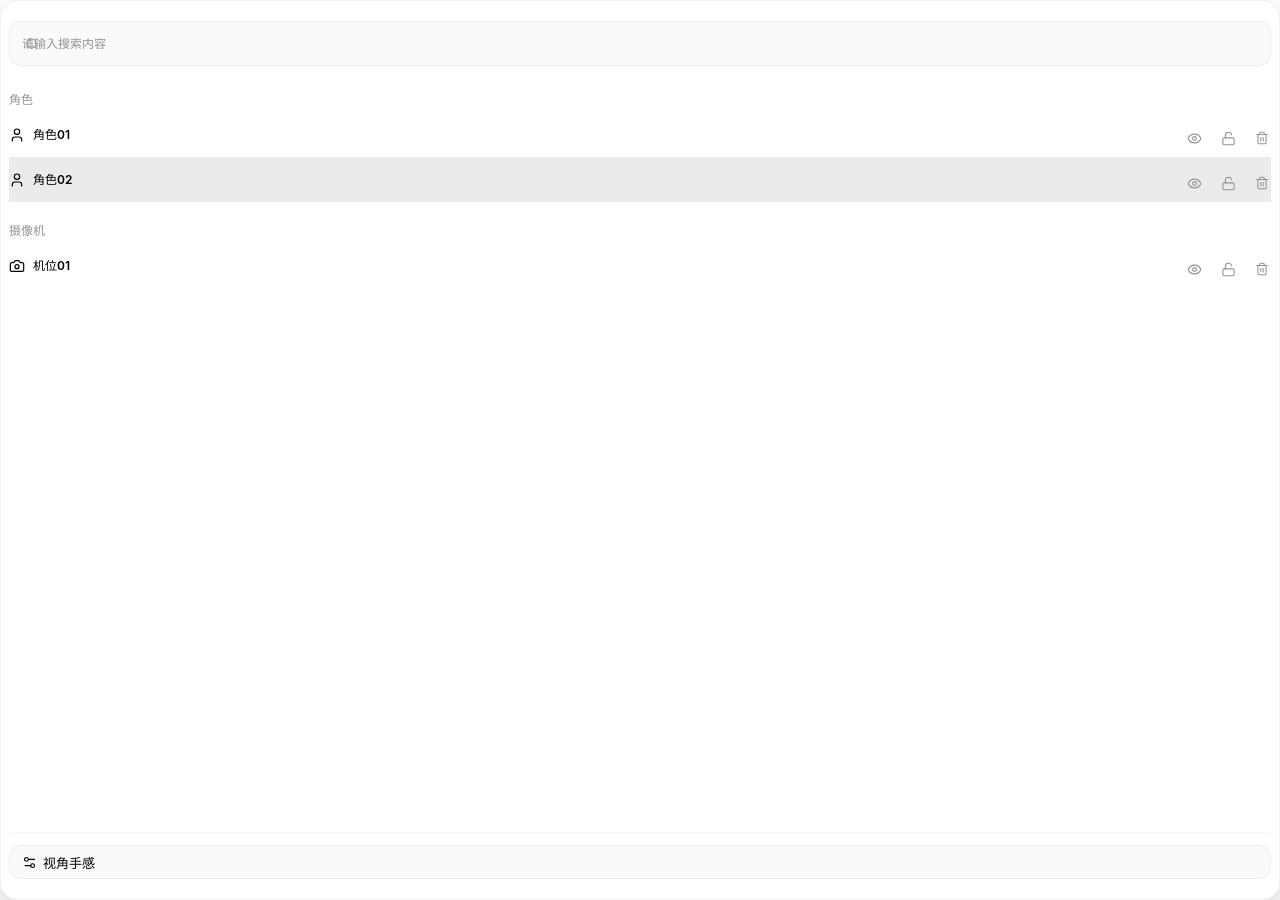
Test case: deletes a character from its row action
This screenshot has width=1280, height=900.
Click the button named "删除 角色02": coordinates (1256, 180) [1243,166,1269,194]
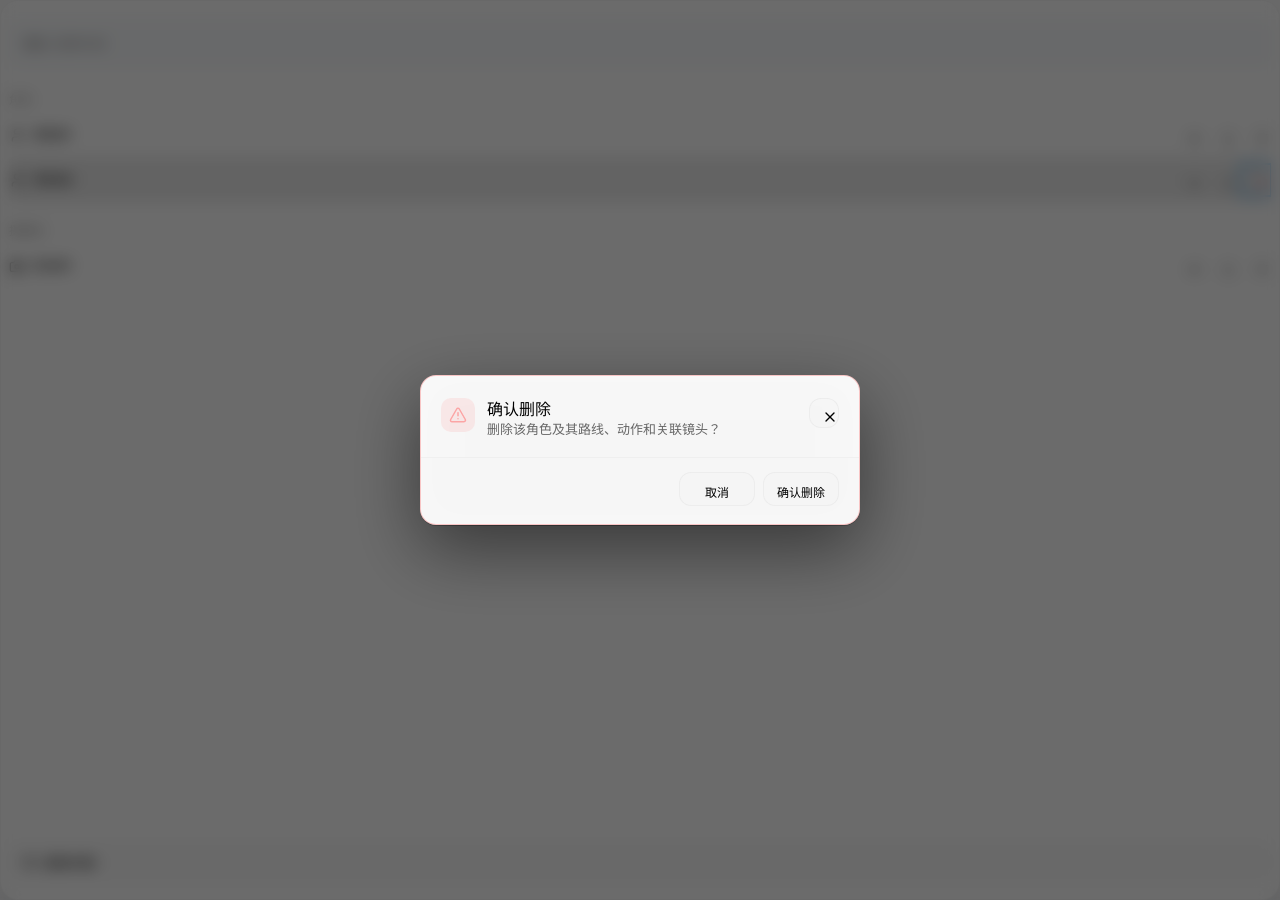
Click the button "确认删除": coordinates (801, 489) [763,472,839,506]
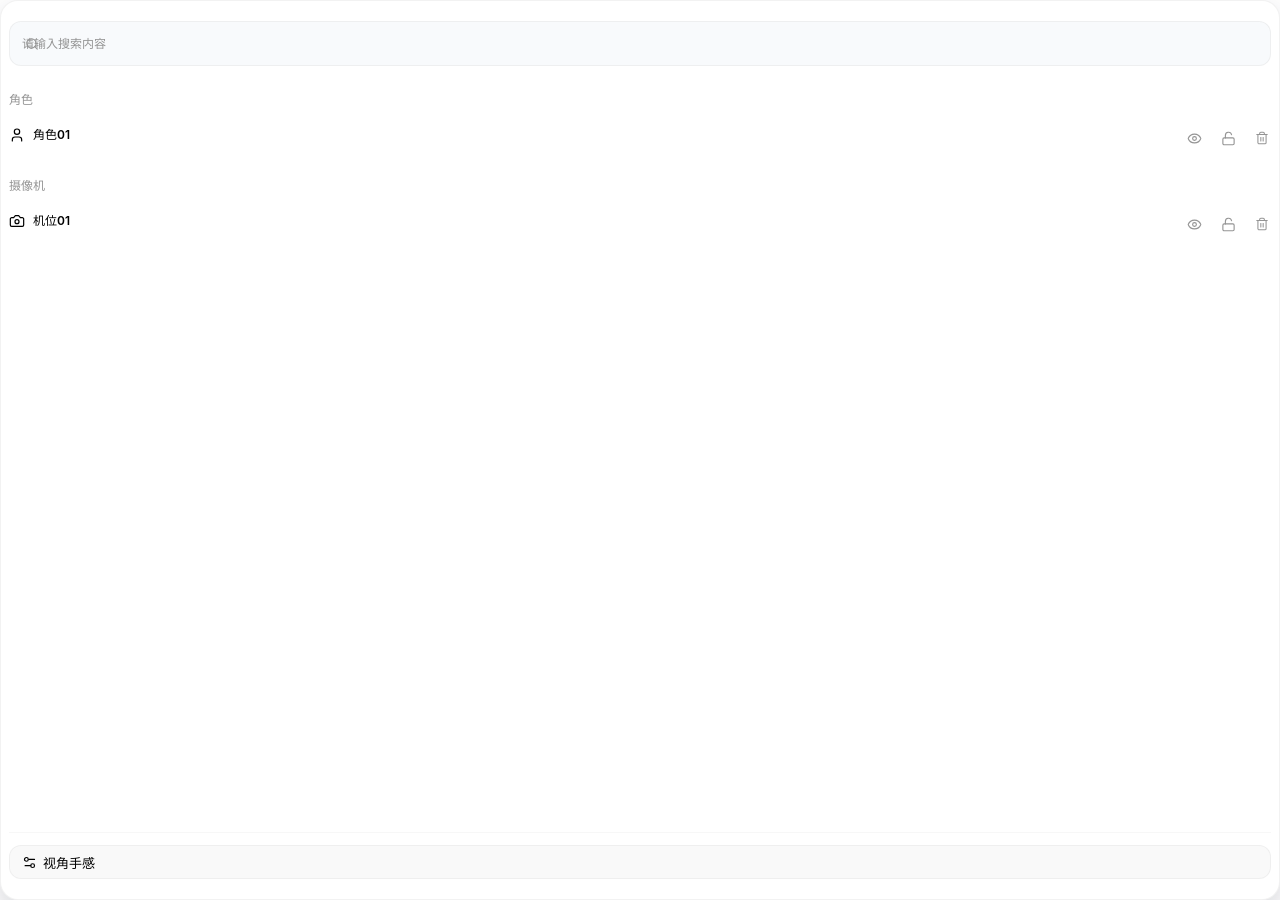
Check: the button "角色02" is gone
